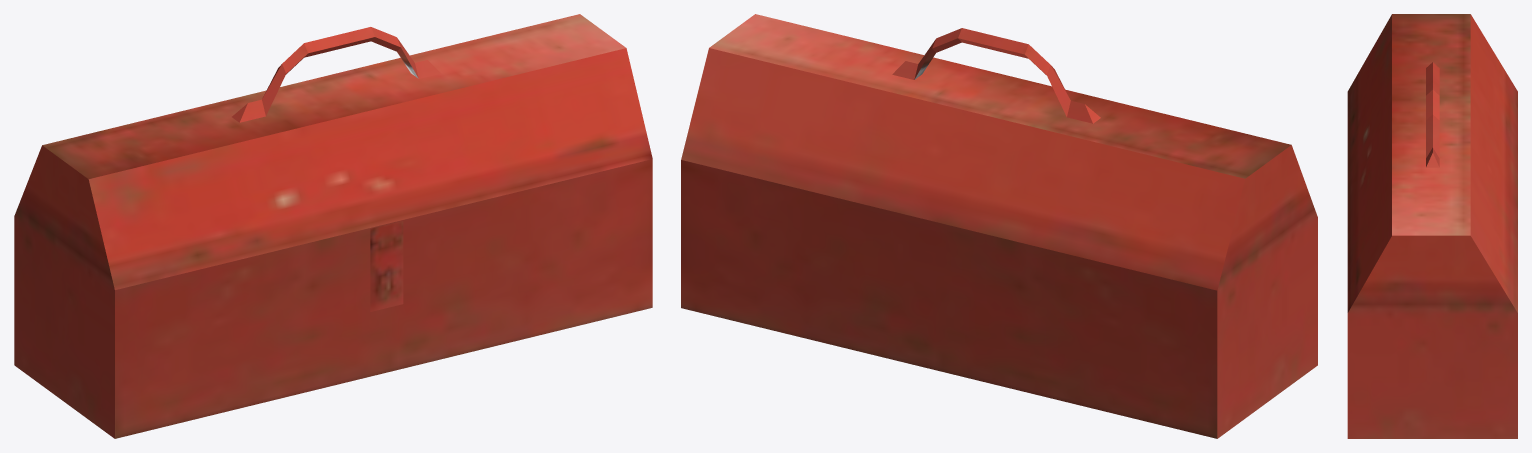
3 views of the same model, side by side, from view 1: azimuth 30°, elevation 25°; view 2: azimuth 150°, elevation 25°; view 3: azimuth 270°, elevation 25° (orthographic). The views are drawn at different scales.
Visible parts, largest first — view 1: ToolBox; view 2: ToolBox; view 3: ToolBox.
Boxes of the visible parts, x1,y1,x2,y2 form: ToolBox: (14,14,652,438); ToolBox: (681,14,1317,438); ToolBox: (1347,14,1517,438).
Bounding box in the file's own units: 1.95 × 1.04 × 0.6385.
Materials: 1 (1 with a texture image).
